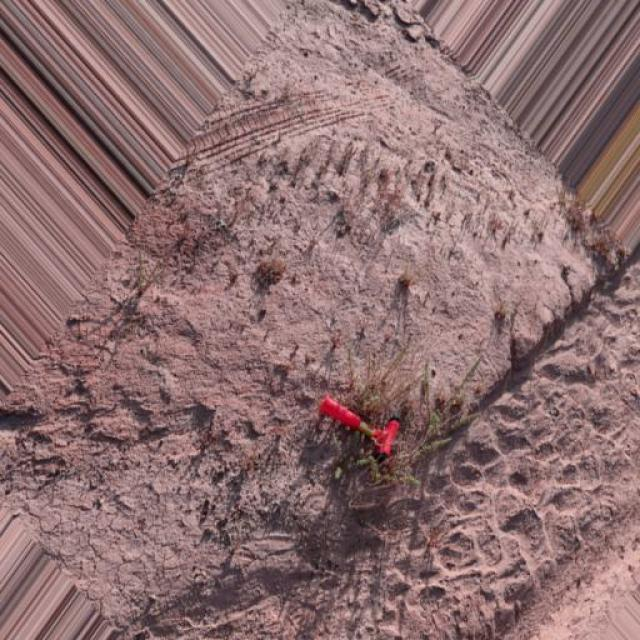mallet: (318, 392, 402, 462)
